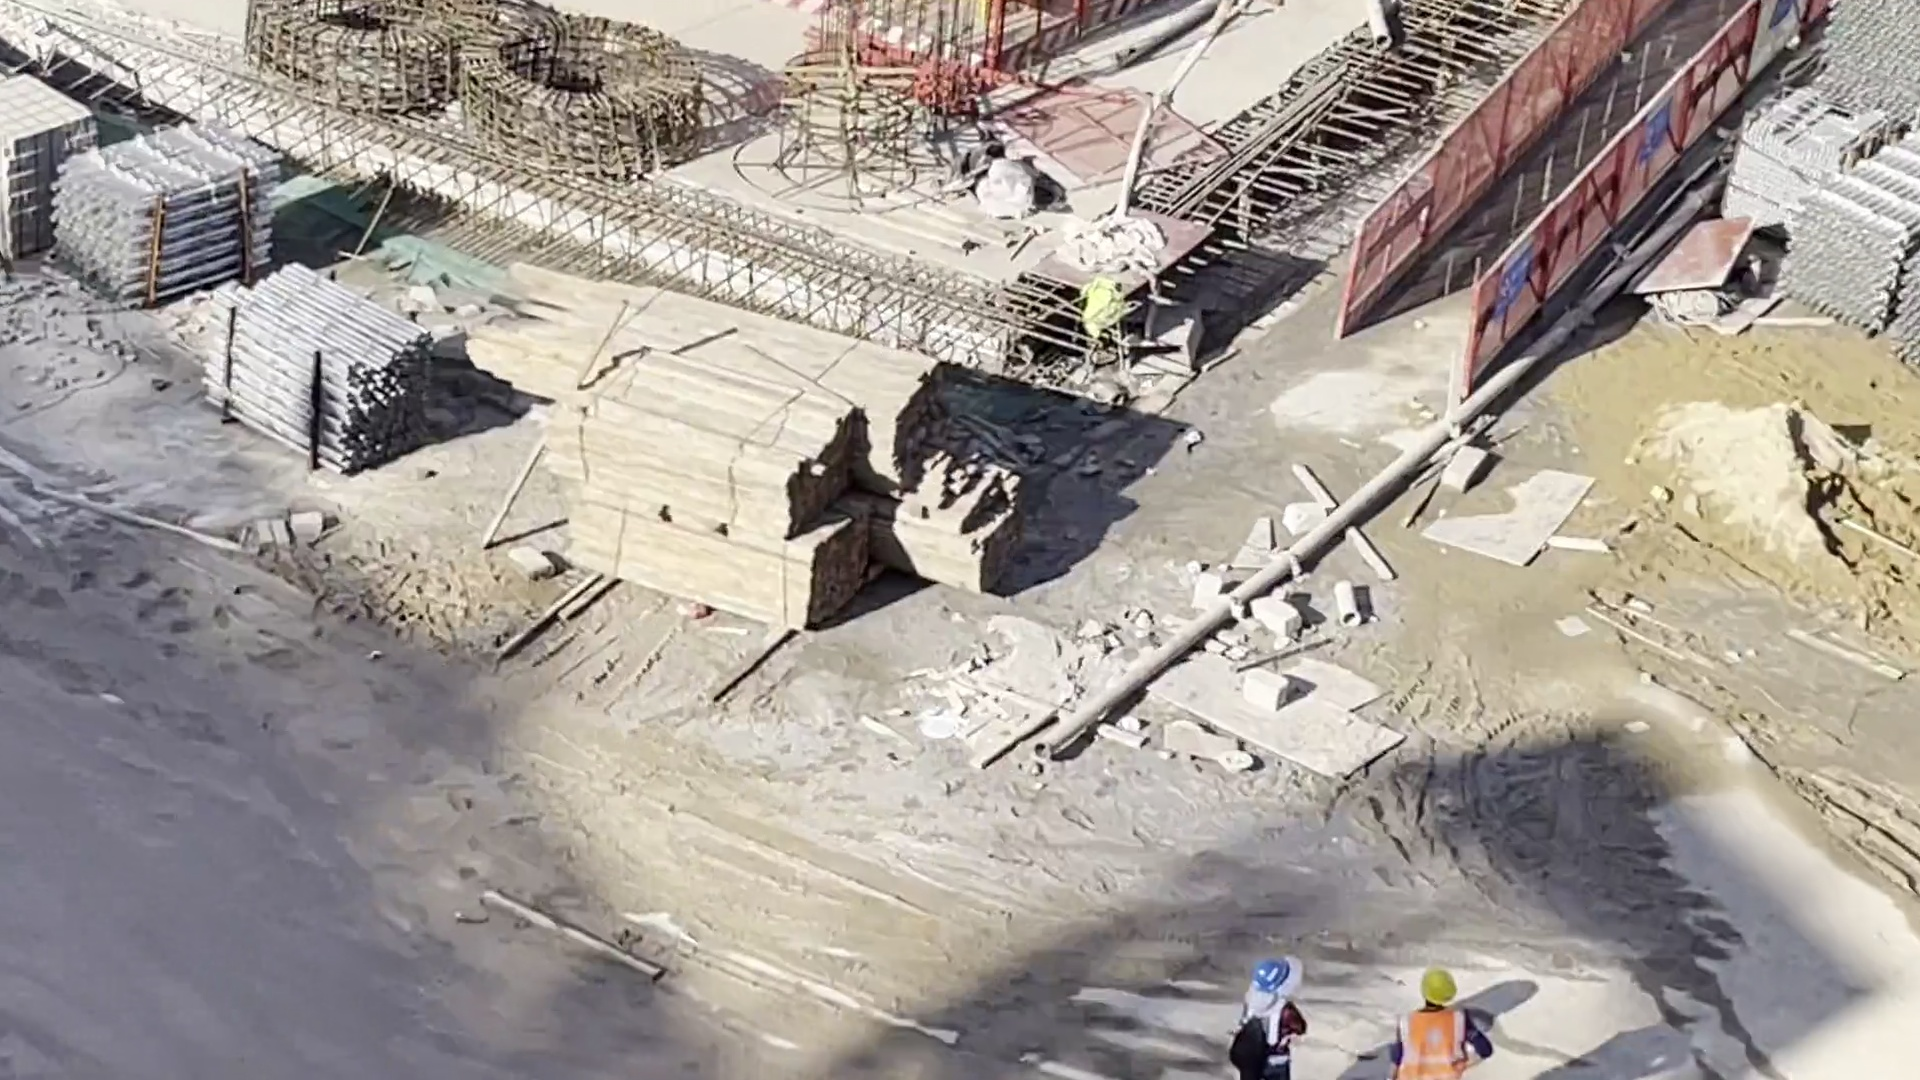brick: (1, 78, 78, 254)
fence: (1352, 1, 1816, 373)
helmet: (1421, 969, 1456, 1005), (1253, 959, 1289, 991)
person: (1396, 973, 1486, 1080), (1240, 964, 1300, 1080)
scaffold: (211, 272, 425, 468), (70, 120, 273, 292), (1800, 143, 1920, 330)
slogan: (1497, 238, 1531, 323), (1643, 95, 1669, 164)
vest: (1401, 1006, 1466, 1080), (1244, 999, 1288, 1074)
wood: (497, 289, 940, 491), (558, 362, 882, 633)
